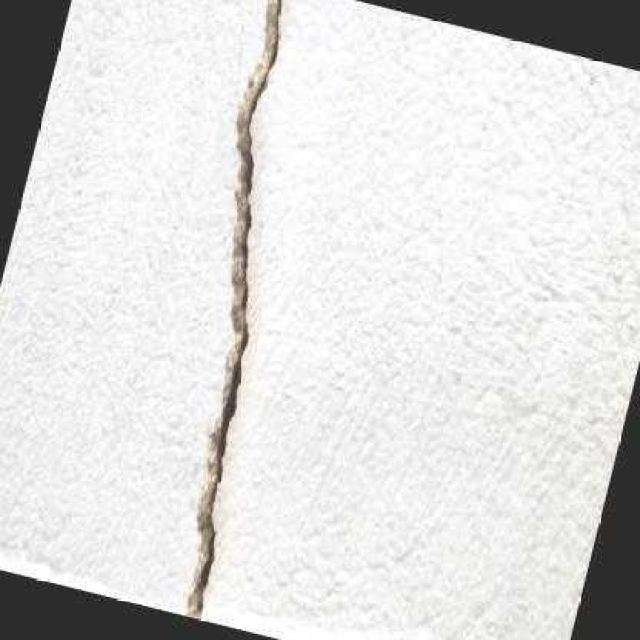D00: (183, 0, 281, 620)
